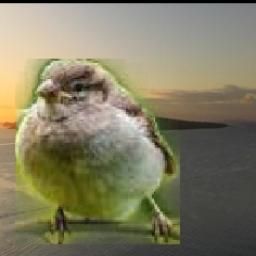Sparrow: (15, 59, 180, 244)
